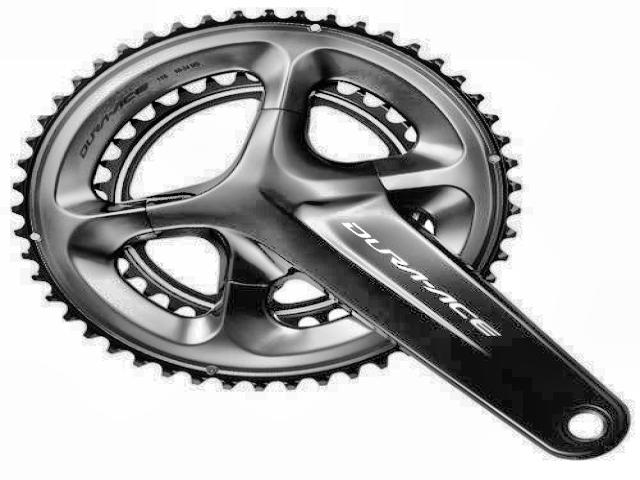cranks_set: (5, 6, 635, 463)
